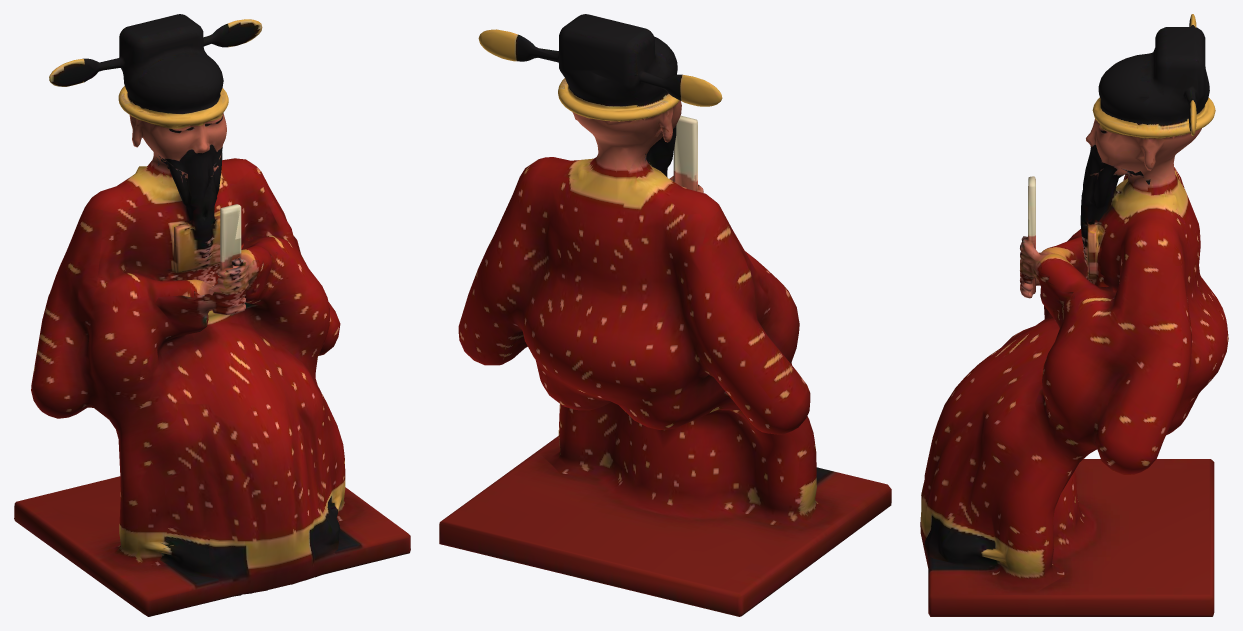
Rendered from ducong.glb.
The picture shows the model from 3 angles, left to right: view 1: azimuth 30°, elevation 25°; view 2: azimuth 150°, elevation 25°; view 3: azimuth 270°, elevation 25°; orthographic projection. The views are drawn at different scales.
Parts seen in each view (by area): view 1: ducong; view 2: ducong; view 3: ducong.
Boxes of the visible parts, x1,y1,x2,y2 form: ducong: [14, 14, 410, 616]; ducong: [439, 14, 891, 616]; ducong: [920, 14, 1228, 616].
Size of the model in its own units: 1.04 by 1.57 by 0.8628.
1 material, 1 textured.
